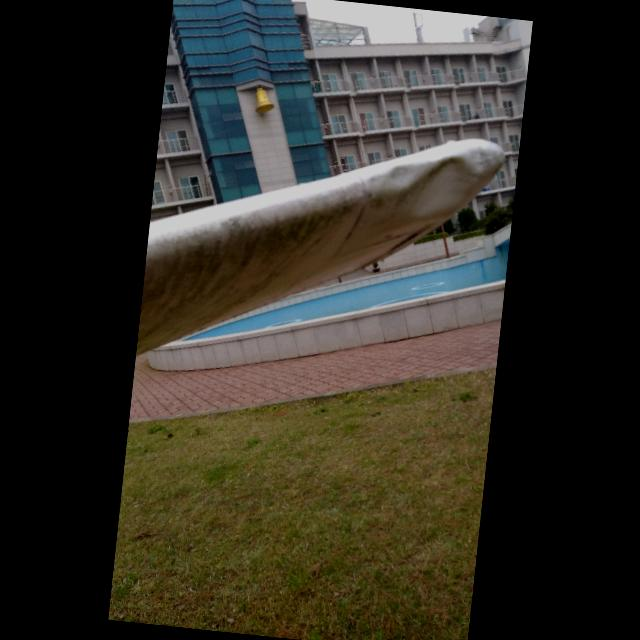dent: (402, 149, 483, 225), (382, 158, 421, 192)
